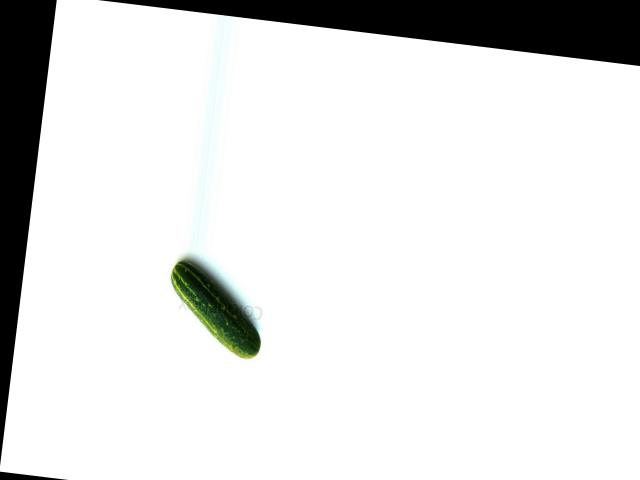cucumber: (161, 259, 268, 360)
